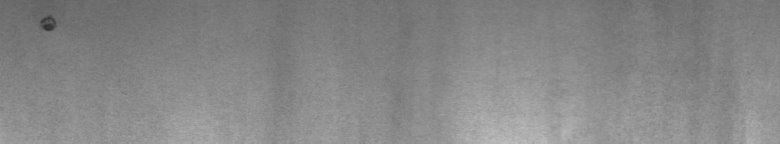fi: (36, 8, 60, 40)
